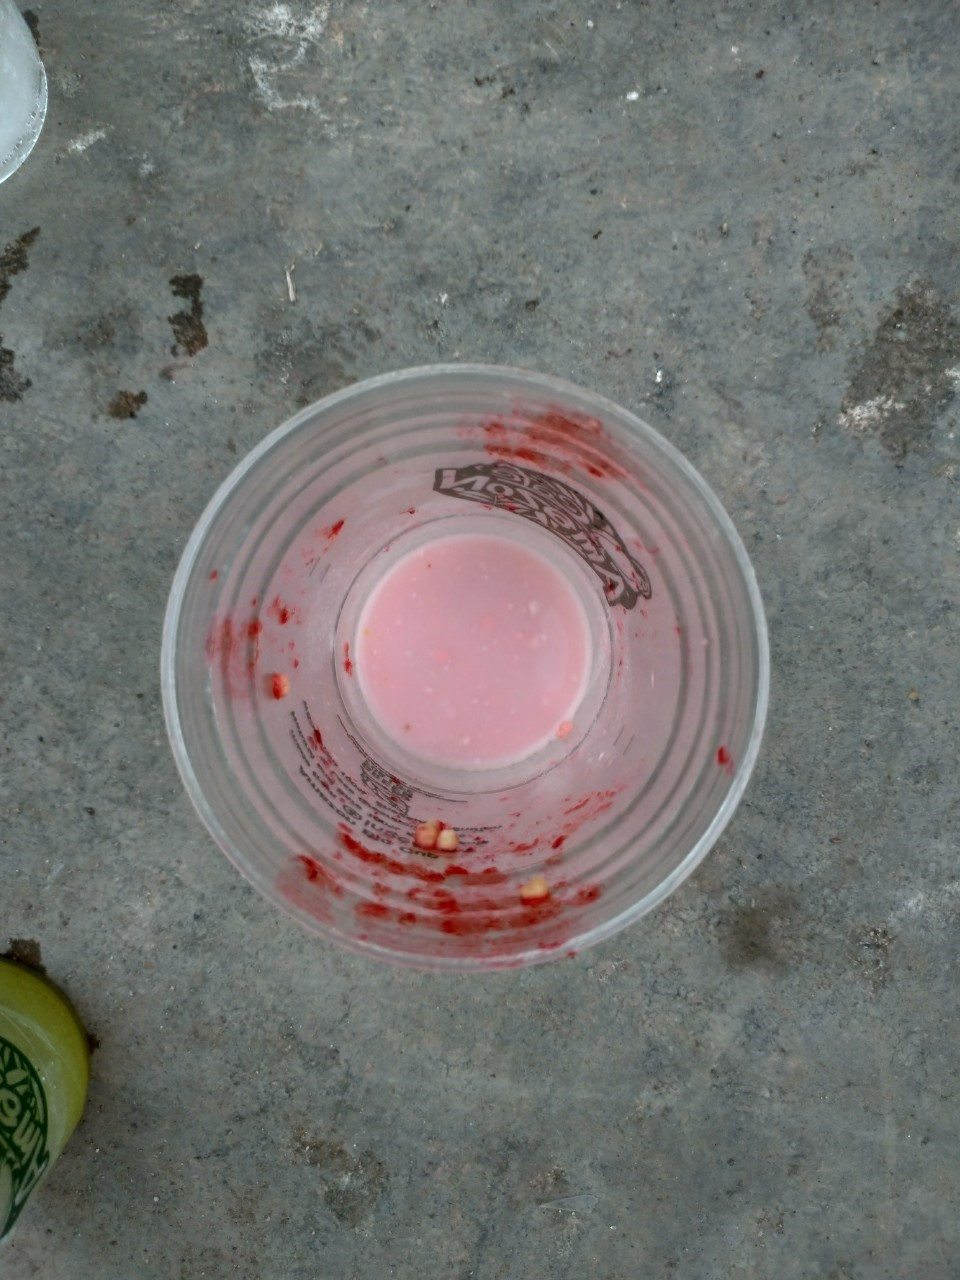PlasticCup: (167, 365, 763, 980)
